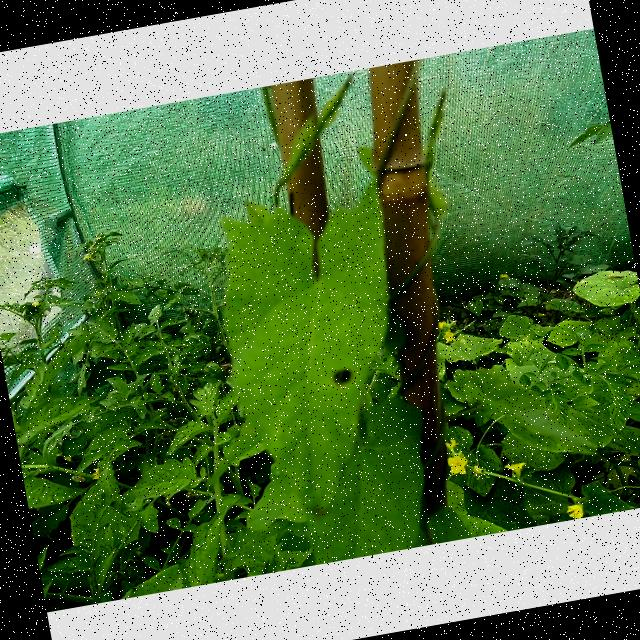Flowers: (446, 452, 471, 478), (436, 318, 458, 346), (501, 459, 526, 476), (564, 500, 586, 519)
